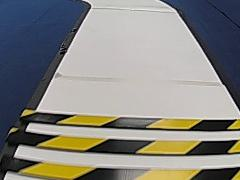bump: (0, 106, 235, 176)
